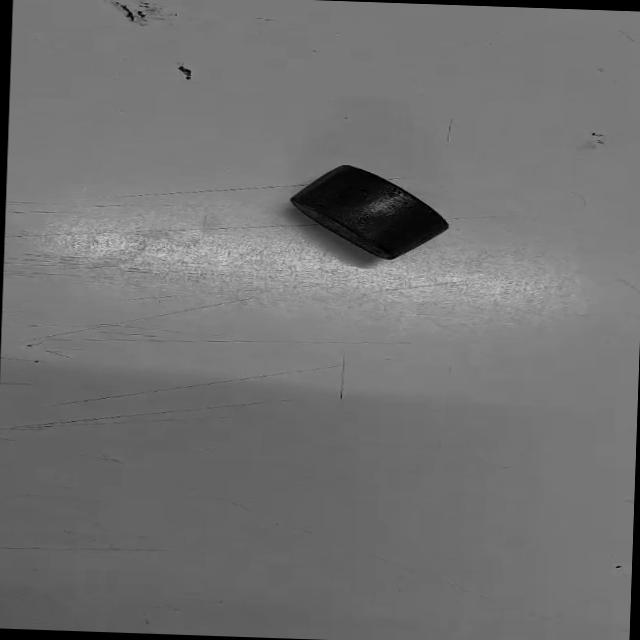rcircle: (291, 165, 448, 258)
